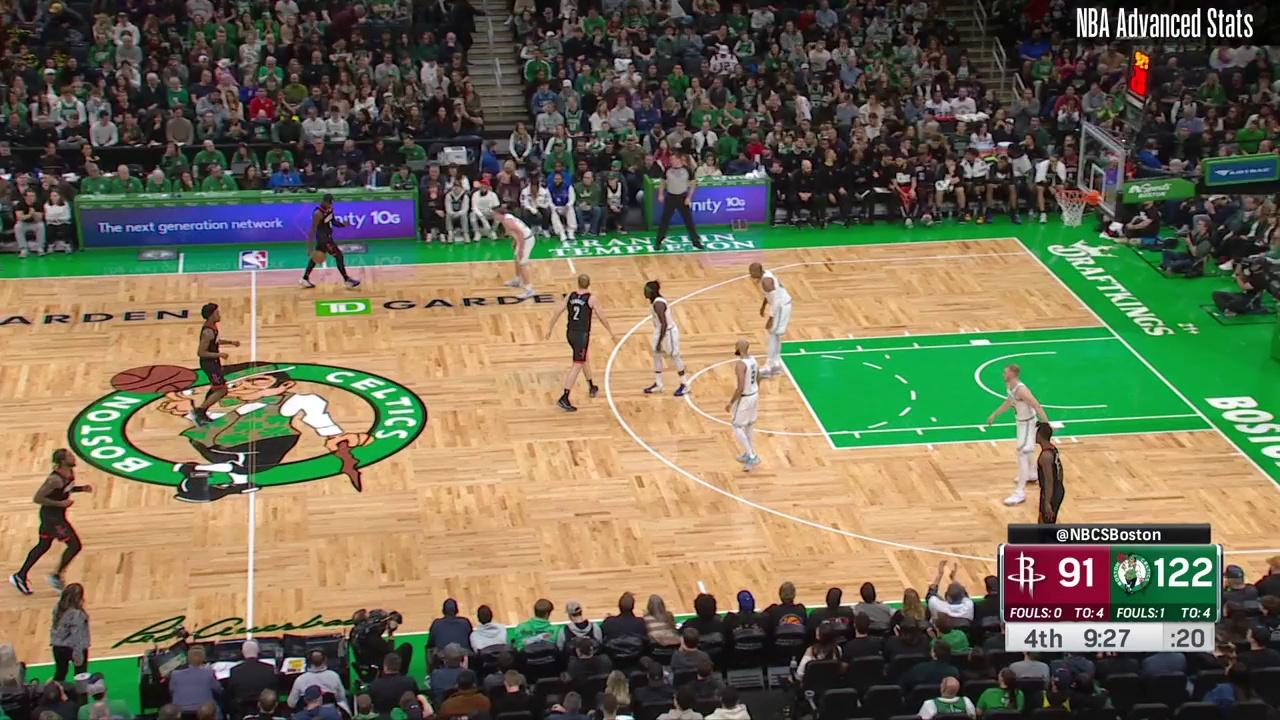3_sx: (1026, 249, 1033, 255)
b_sx: (1012, 235, 1018, 241)
free_adx: (830, 445, 838, 452)
free_bdx: (1212, 425, 1221, 433)
free_bsx: (1102, 322, 1111, 330)
half_sx: (248, 267, 259, 276)
mid_dx: (696, 578, 702, 584)
mid_sx: (571, 271, 577, 277)
referee: (654, 152, 705, 249)
team: (987, 365, 1039, 508), (639, 278, 693, 397), (719, 340, 763, 475), (750, 259, 793, 376), (491, 204, 541, 299)
team1: (12, 449, 92, 598), (549, 274, 606, 411), (297, 190, 361, 293), (190, 303, 241, 427), (1028, 423, 1069, 529)
timer: (1082, 618, 1138, 657)
